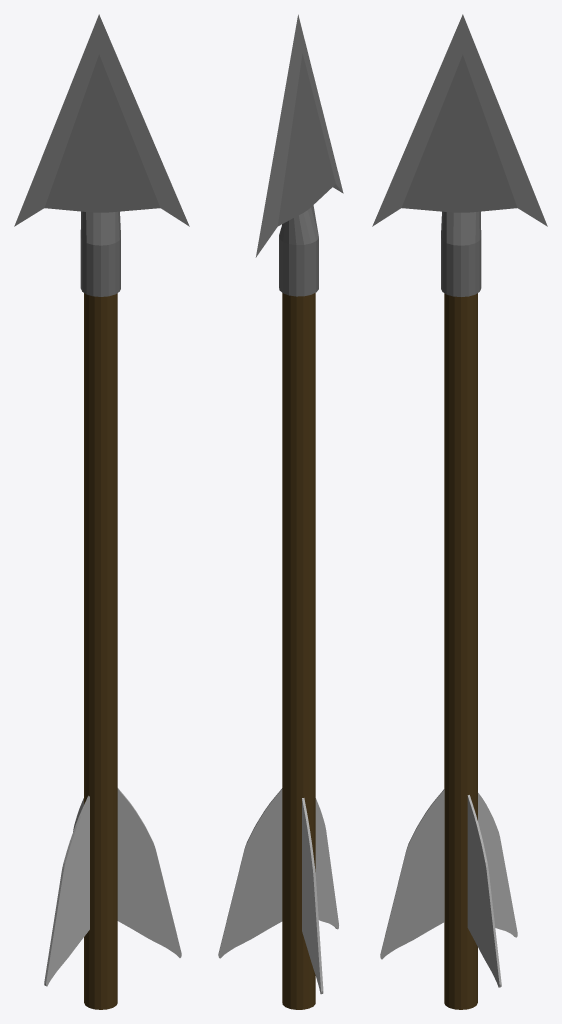
File: Arrow.fbx
The picture shows the model from 3 angles, left to right: view 1: azimuth 90°, elevation 25°; view 2: azimuth 150°, elevation 25°; view 3: azimuth 270°, elevation 25°; orthographic projection.
Visible parts, largest first — view 1: Shaft, Arrowhead, Plane.003, Plane.001; view 2: Shaft, Arrowhead, Plane.002, Plane.001, Plane.003; view 3: Shaft, Arrowhead, Plane.003, Plane.002, Plane.001.
Boxes of the visible parts, x1,y1,x2,y2 form: Shaft: [84, 293, 117, 1009]; Arrowhead: [14, 14, 189, 296]; Plane.003: [117, 788, 181, 957]; Plane.001: [44, 795, 89, 986]; Shaft: [282, 293, 315, 1009]; Arrowhead: [255, 14, 343, 296]; Plane.002: [218, 788, 282, 958]; Plane.001: [302, 798, 323, 994]; Plane.003: [315, 798, 338, 929]; Shaft: [444, 293, 477, 1009]; Arrowhead: [372, 14, 547, 296]; Plane.003: [380, 789, 444, 959]; Plane.002: [467, 795, 501, 987]; Plane.001: [478, 793, 517, 937].
Bounding box in the file's own units: 31.06 × 259 × 41.74.
